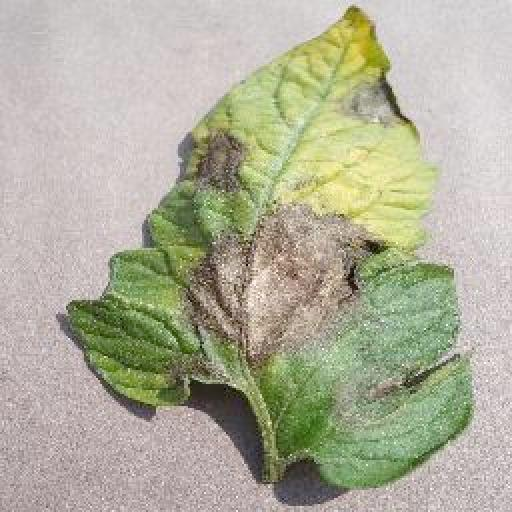disease_tomato: (62, 2, 478, 492)
